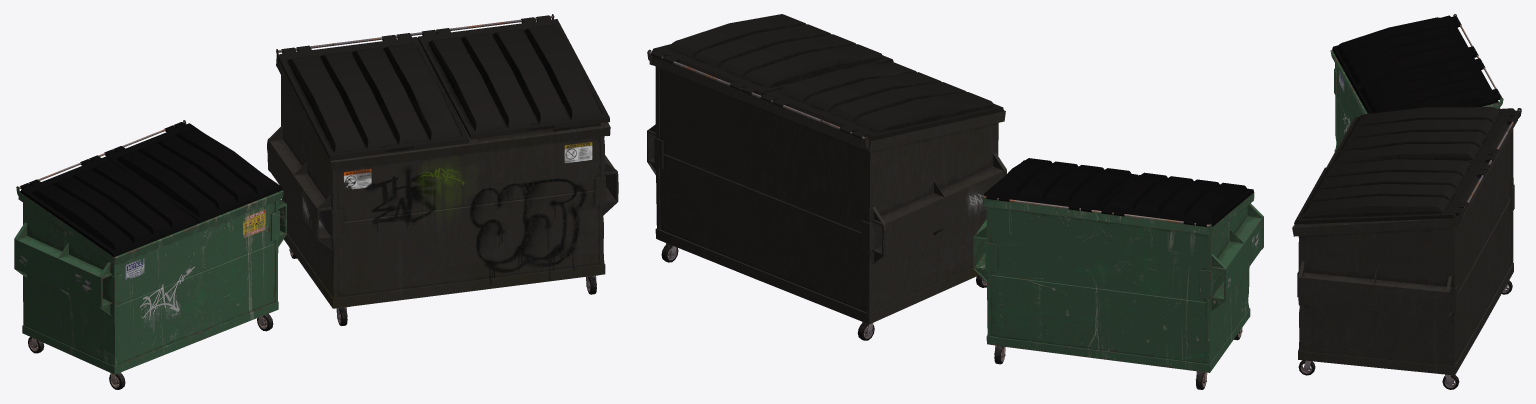
File: dumpster.glb
3 views of the same model, side by side, from view 1: azimuth 30°, elevation 25°; view 2: azimuth 150°, elevation 25°; view 3: azimuth 270°, elevation 25° (orthographic). The views are drawn at different scales.
Parts seen in each view (by area): view 1: 6Y_6Y_dumpster_tex_0, 4Y_4Y_dumpster_tex_0; view 2: 6Y_6Y_dumpster_tex_0, 4Y_4Y_dumpster_tex_0; view 3: 6Y_6Y_dumpster_tex_0, 4Y_4Y_dumpster_tex_0.
Part boxes in pixels (<box>): 6Y_6Y_dumpster_tex_0: <box>267,14,618,325</box>; 4Y_4Y_dumpster_tex_0: <box>14,120,286,389</box>; 6Y_6Y_dumpster_tex_0: <box>647,14,1006,340</box>; 4Y_4Y_dumpster_tex_0: <box>973,158,1263,389</box>; 6Y_6Y_dumpster_tex_0: <box>1292,107,1521,389</box>; 4Y_4Y_dumpster_tex_0: <box>1330,14,1503,151</box>.
Size of the model in its own units: 117 by 41.36 by 46.93.
2 materials, 2 textured.
